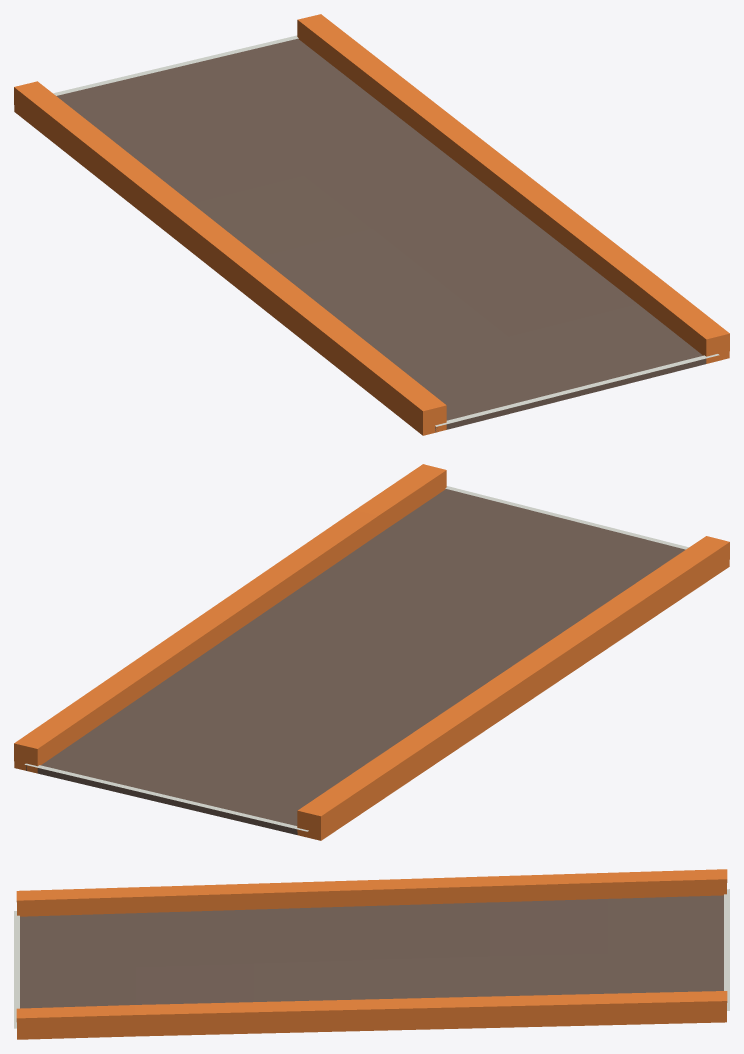
Rendered from SM_MP_Film_C_0_1.fbx.
The picture shows the model from 3 angles, top to bottom: view 1: azimuth 30°, elevation 25°; view 2: azimuth 150°, elevation 25°; view 3: azimuth 270°, elevation 25°; orthographic projection. The views are drawn at different scales.
Visible parts, largest first — view 1: SM_MP_Film_C_0_1; view 2: SM_MP_Film_C_0_1; view 3: SM_MP_Film_C_0_1.
Part boxes in pixels (x1,y1,x2,y2): SM_MP_Film_C_0_1: [14, 14, 729, 435]; SM_MP_Film_C_0_1: [14, 464, 729, 840]; SM_MP_Film_C_0_1: [14, 869, 729, 1039].
Size of what is drawn, in the model's own units: 260 by 605 by 40.22.
